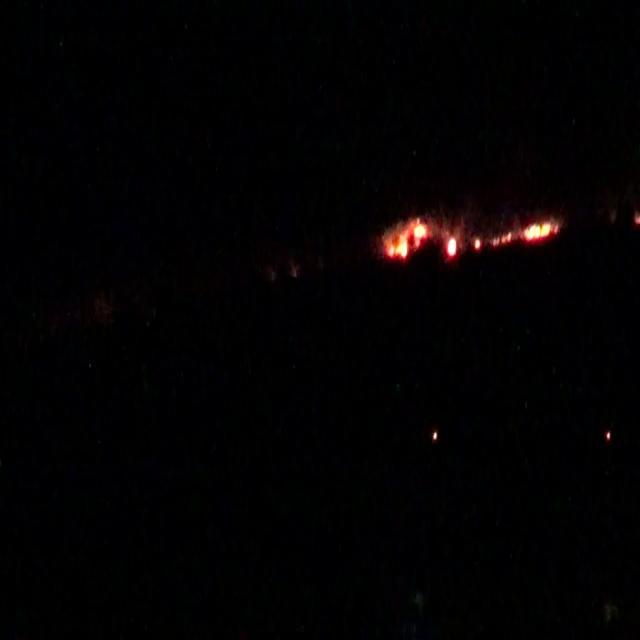Fire: (474, 218, 558, 248), (384, 220, 426, 258)
